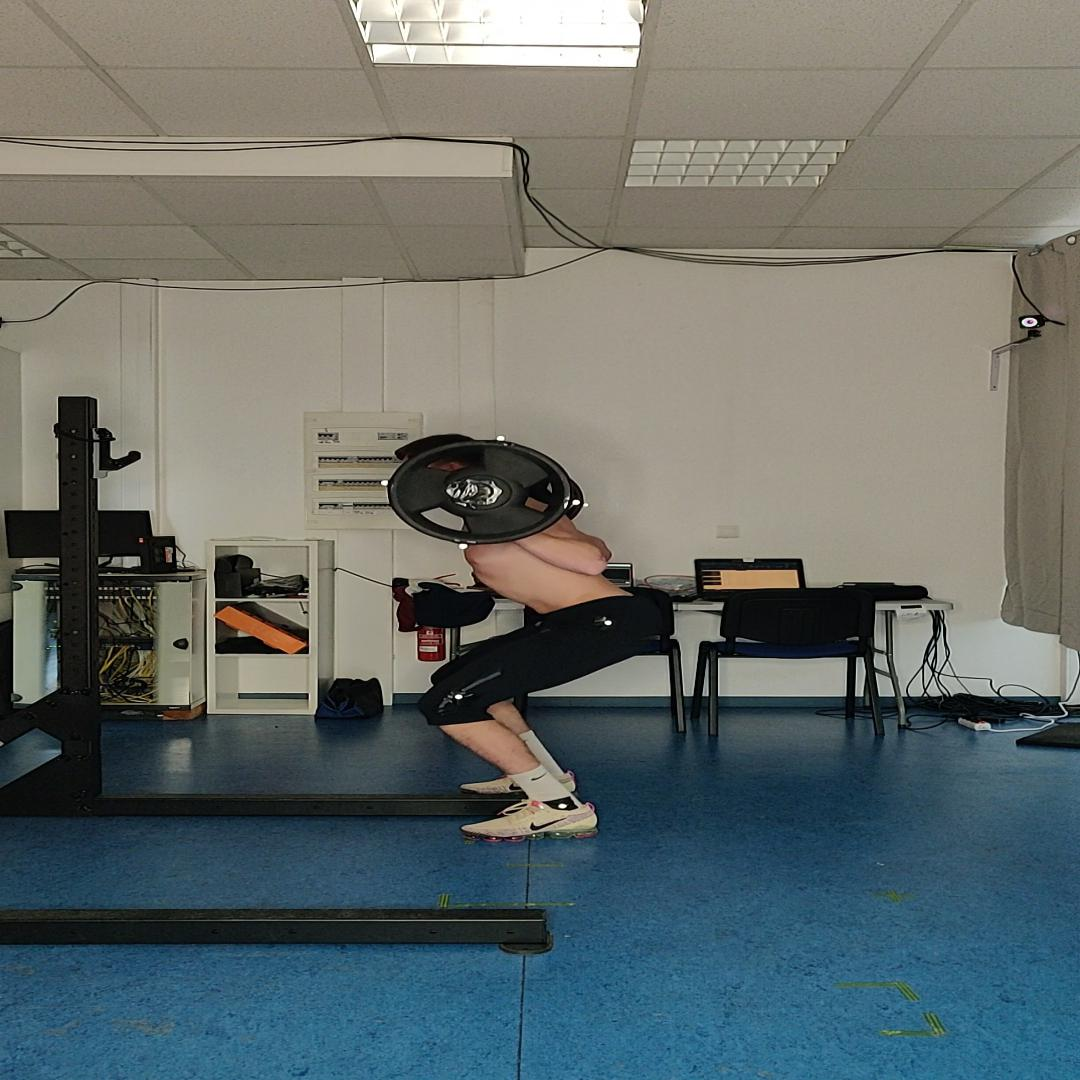Bar: (444, 480, 480, 500)
Barbell: (388, 440, 573, 545)
